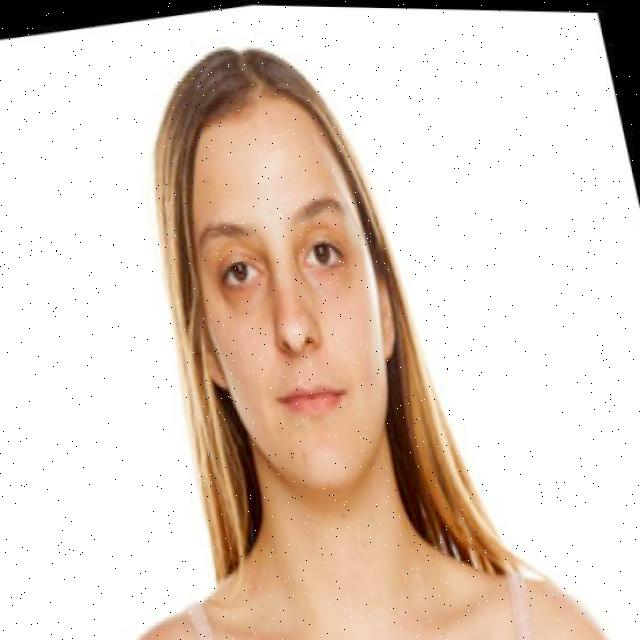puffy_eyes: (219, 275, 264, 312), (301, 262, 347, 298)
